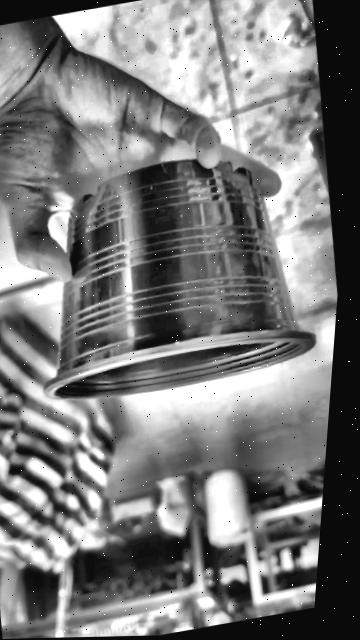pot: (9, 139, 330, 409)
